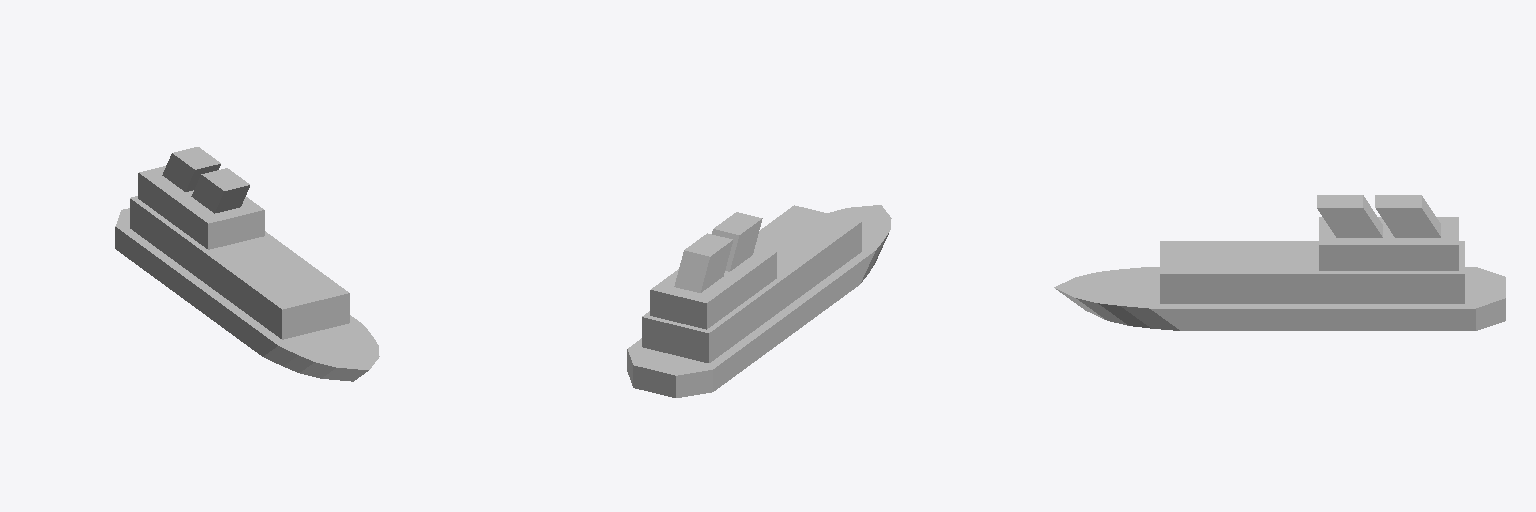
File: boat.obj
3 renders of one model, left to right at view 1: azimuth 30°, elevation 25°; view 2: azimuth 150°, elevation 25°; view 3: azimuth 270°, elevation 25°, orthographic.
Visible parts, largest first — view 1: Cube1; view 2: Cube1; view 3: Cube1.
Part boxes in pixels (bbox=[...]): Cube1: bbox=[115, 147, 379, 381]; Cube1: bbox=[627, 205, 891, 397]; Cube1: bbox=[1054, 195, 1505, 330].
Bounding box in the file's own units: 2 × 2.43 × 9.17.